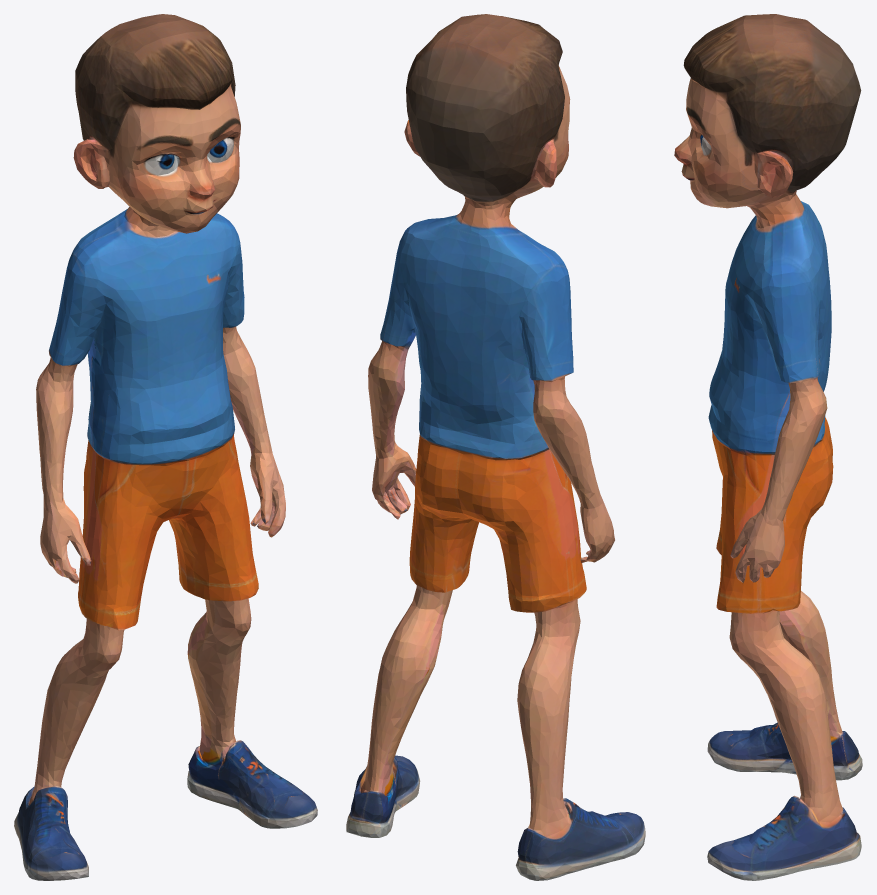
The model's file is T_pose_0621153526_texture.fbx.
3 renders of one model, left to right at view 1: azimuth 30°, elevation 25°; view 2: azimuth 150°, elevation 25°; view 3: azimuth 270°, elevation 25°, orthographic. The views are drawn at different scales.
Parts seen in each view (by area): view 1: temp; view 2: temp; view 3: temp.
Part boxes in pixels (bbox=[...]): temp: bbox=[14, 14, 317, 880]; temp: bbox=[346, 14, 645, 880]; temp: bbox=[674, 14, 862, 880].
Size of the model in its own units: 72.33 by 200 by 43.1.
Materials: 1 (1 with a texture image).
